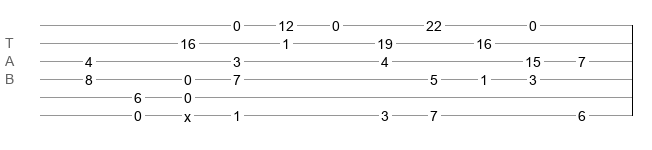0: (134, 108, 142, 118), (184, 72, 192, 82), (184, 90, 192, 100), (233, 18, 241, 28), (332, 18, 340, 28), (529, 18, 537, 28)
1: (233, 108, 241, 118), (282, 36, 290, 46), (480, 72, 488, 82)
12: (278, 18, 294, 28)
15: (525, 54, 541, 64)
16: (180, 36, 196, 46), (476, 36, 492, 46)
19: (377, 36, 393, 46)
22: (426, 18, 442, 28)
3: (233, 54, 241, 64), (381, 108, 389, 118), (529, 72, 537, 82)
4: (85, 54, 93, 64), (381, 54, 389, 64)
5: (430, 72, 438, 82)
6: (134, 90, 142, 100), (578, 108, 586, 118)
7: (233, 72, 241, 82), (430, 108, 438, 118), (578, 54, 586, 64)
8: (85, 72, 93, 82)
x: (184, 109, 191, 117)
